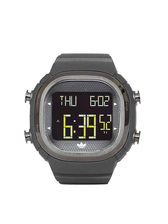watch: (17, 48, 149, 187)
